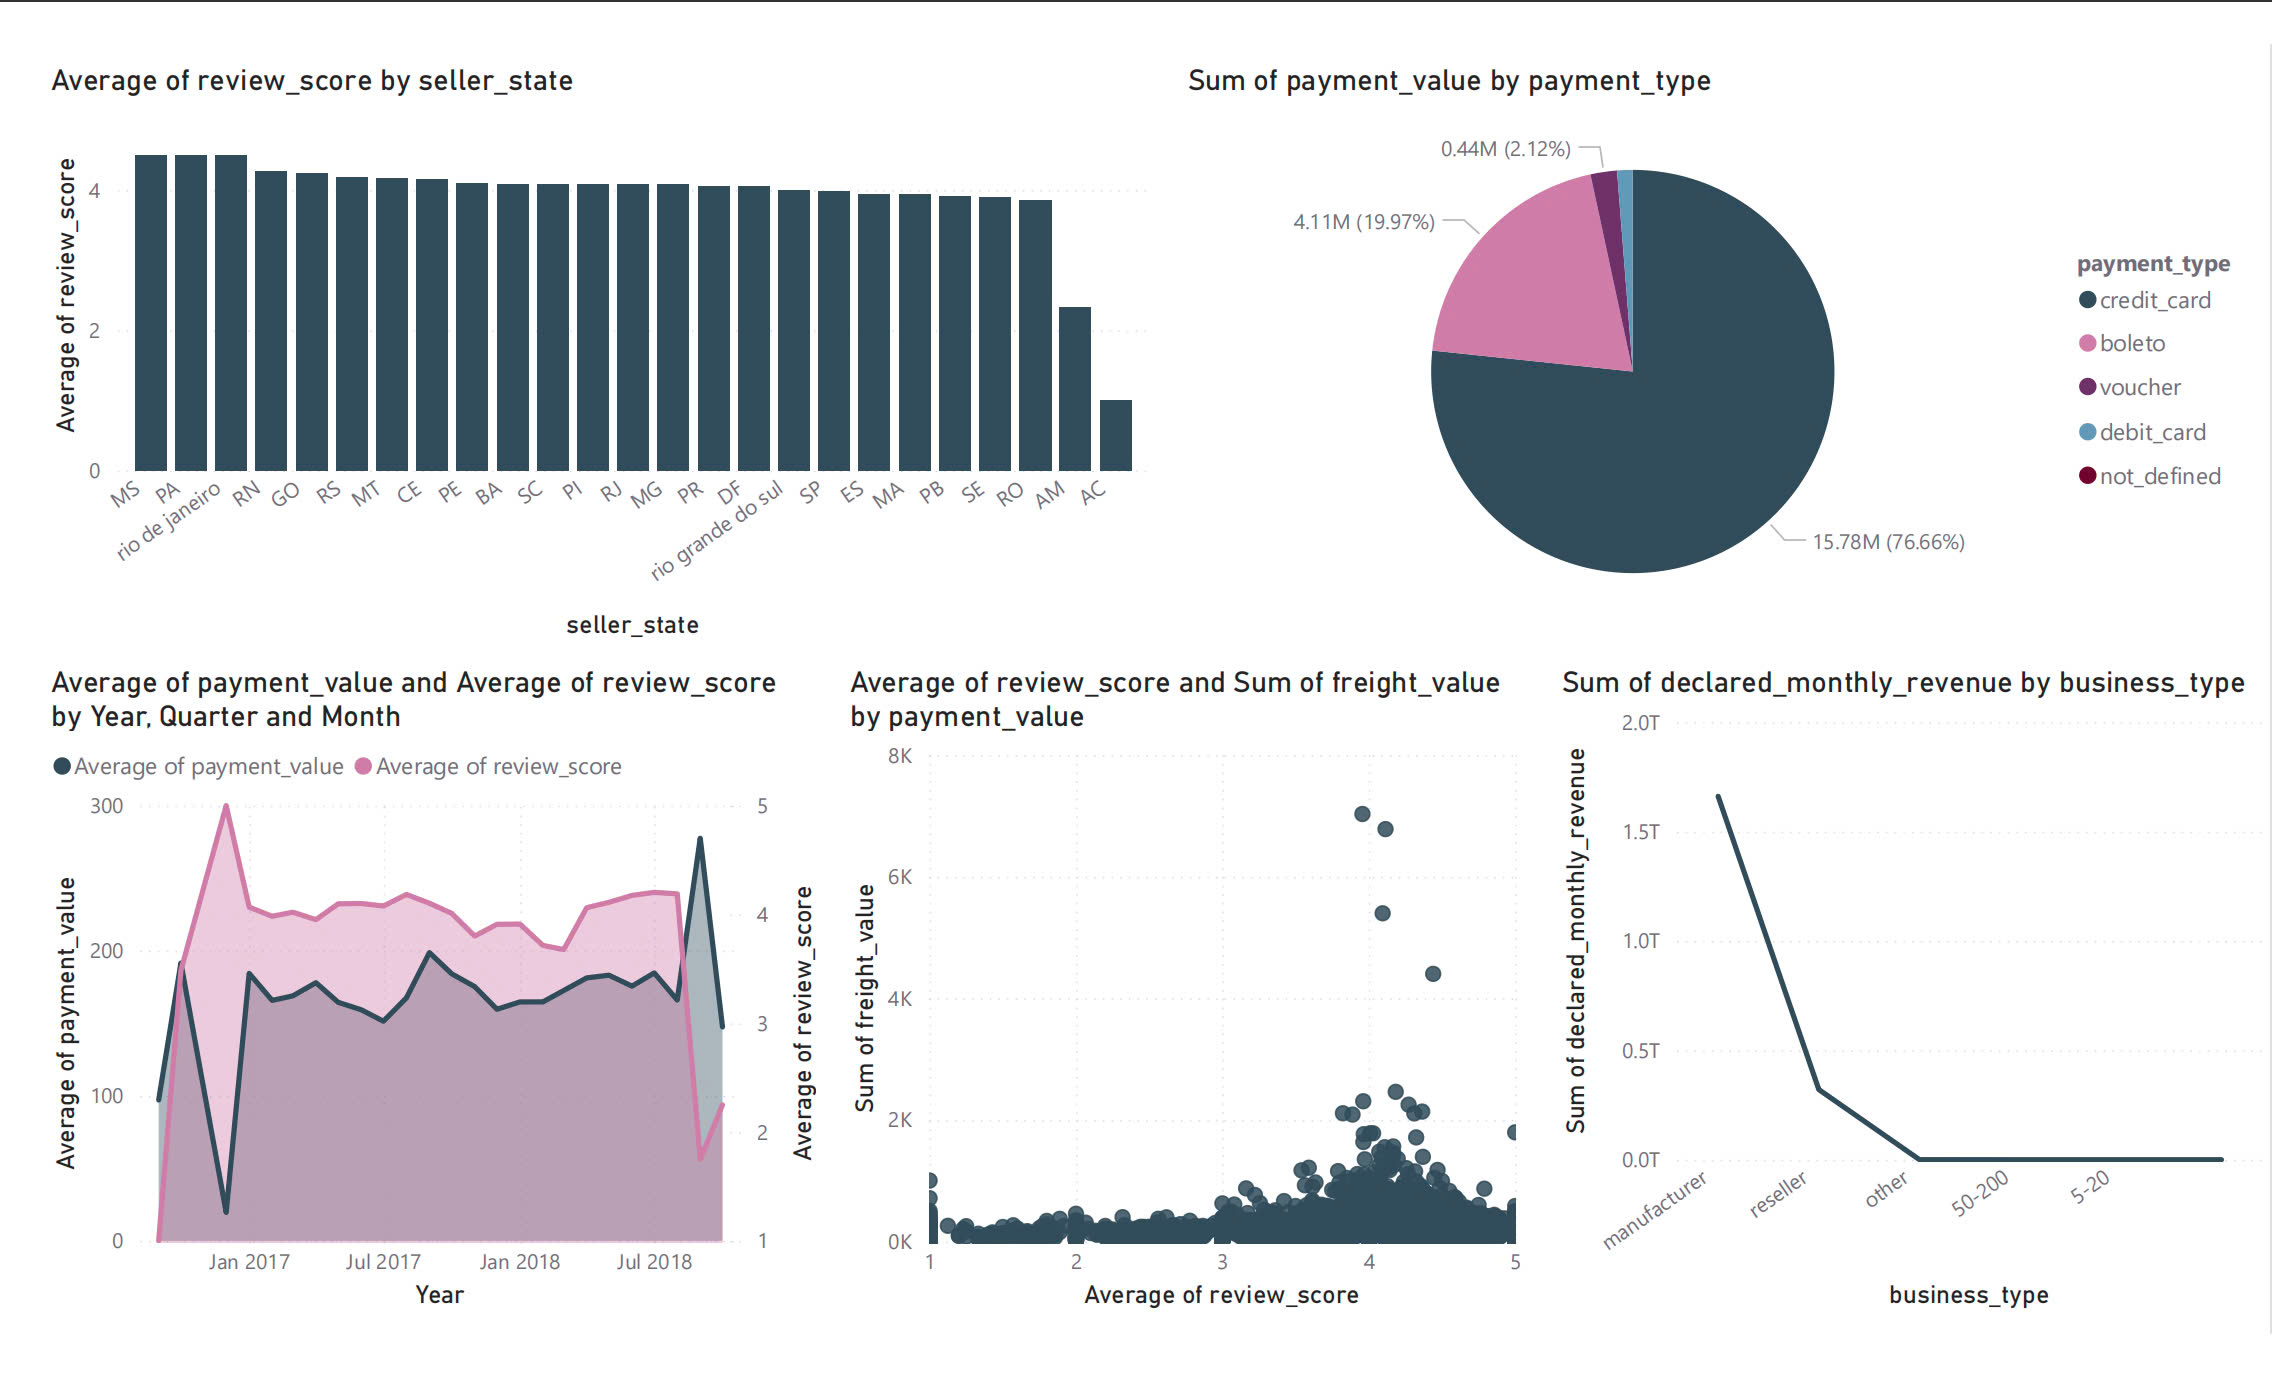

This screenshot's page, from the dashboard's own definition file:
{"tool":"powerbi","page":{"name":"Warehouse","canvas":[1280,720],"ordinal":0},"visuals":[{"type":"columnChart","fields":{"Y":["Avg(fact_order_item.review_score)"],"Category":["fact_order_item.seller_state"]},"box":[0,0,639.8,336.1],"z":0},{"type":"pieChart","fields":{"Category":["fact_orders.payment_type"],"Y":["Sum(fact_orders.payment_value)"]},"box":[652.5,0,627.2,336.1],"z":1},{"type":"areaChart","fields":{"Category":["fact_orders.date_id.Variation.Date Hierarchy.Year","fact_orders.date_id.Variation.Date Hierarchy.Quarter","fact_orders.date_id.Variation.Date Hierarchy.Month"],"Y":["Avg(fact_orders.payment_value)"],"Y2":["Avg(fact_orders.review_score)"]},"box":[0,346.1,449,374.5],"z":2},{"type":"lineChart","fields":{"Category":["fact_closed_deals.business_type"],"Y":["Sum(fact_closed_deals.declared_monthly_revenue)"]},"box":[868.3,346.1,411.7,374.5],"z":3},{"type":"scatterChart","fields":{"Category":["fact_order_item.payment_value"],"X":["Avg(fact_order_item.review_score)"],"Y":["Sum(fact_order_item.freight_value)"]},"box":[459.5,346.1,395.3,374.5],"z":4}]}

Visuals, with their boxes on the page's 1280x720 design canvas (x1, y1, x2, y2). These are canvas units, not pixel positions in the 2272x1376 screenshot, which may show the page scaled, cropped or inside an application window:
columnChart - Avg(fact_order_item.review_score) x fact_order_item.seller_state: {"x1": 0, "y1": 0, "x2": 640, "y2": 336}
pieChart - fact_orders.payment_type x Sum(fact_orders.payment_value): {"x1": 652, "y1": 0, "x2": 1280, "y2": 336}
areaChart - fact_orders.date_id.Variation.Date Hierarchy.Year x fact_orders.date_id.Variation.Date Hierarchy.Quarter: {"x1": 0, "y1": 346, "x2": 449, "y2": 721}
lineChart - fact_closed_deals.business_type x Sum(fact_closed_deals.declared_monthly_revenue): {"x1": 868, "y1": 346, "x2": 1280, "y2": 721}
scatterChart - fact_order_item.payment_value x Avg(fact_order_item.review_score): {"x1": 460, "y1": 346, "x2": 855, "y2": 721}
